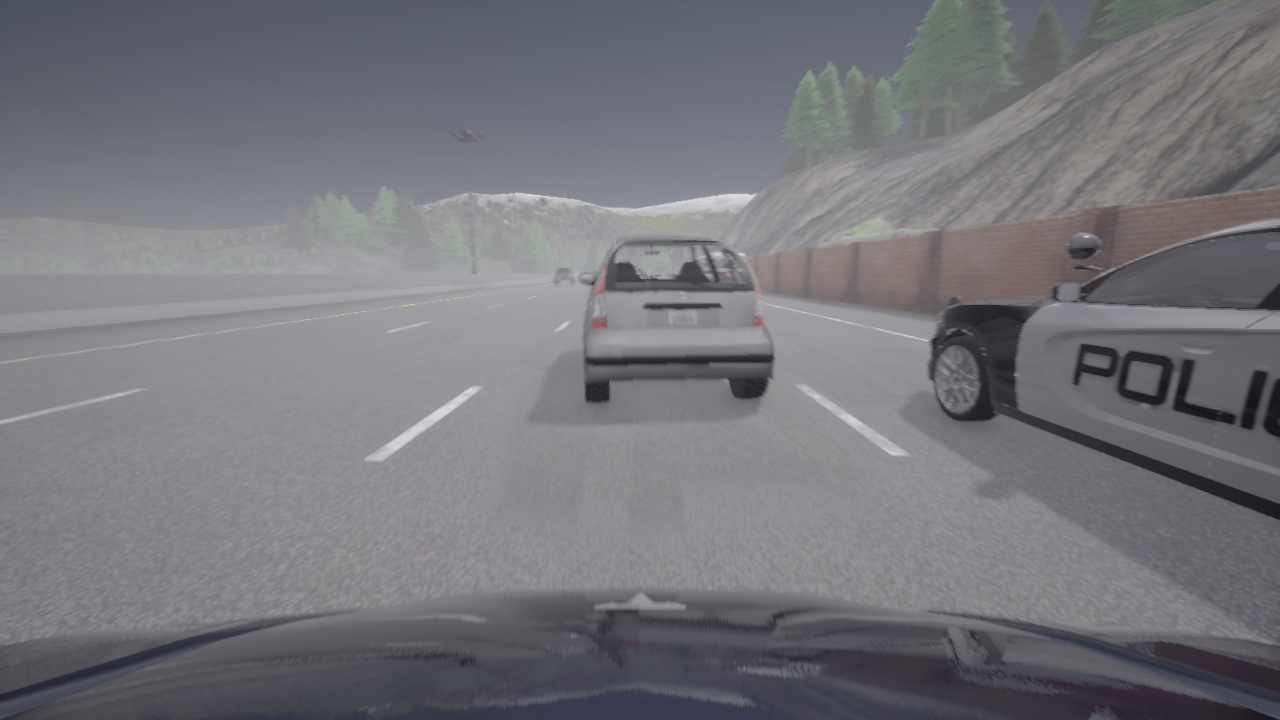cyclist: (0, 588, 1279, 719), (927, 218, 1279, 520), (578, 235, 774, 403), (554, 267, 574, 285), (739, 252, 746, 261)
